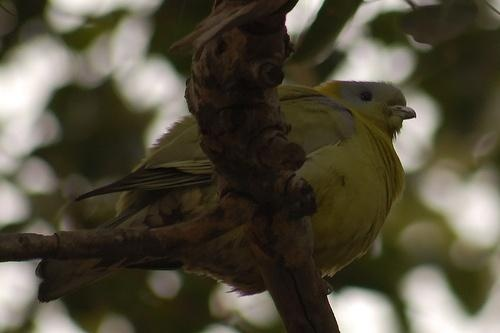bird: (35, 80, 418, 305)
